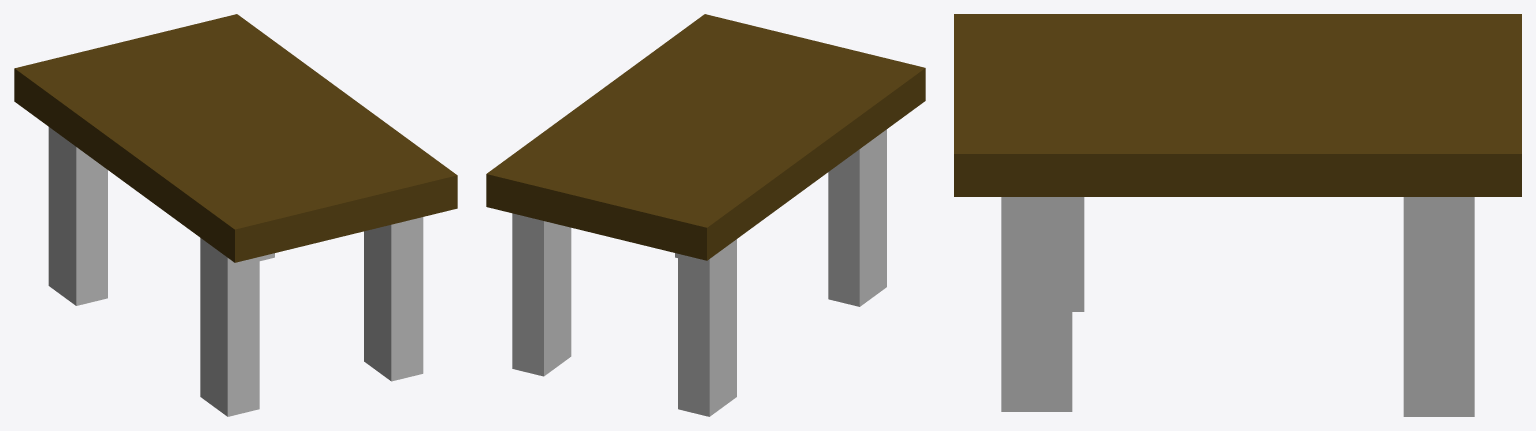
Rendered from Table.gltf.
3 renders of one model, left to right at view 1: azimuth 30°, elevation 25°; view 2: azimuth 150°, elevation 25°; view 3: azimuth 270°, elevation 25°, orthographic. The views are drawn at different scales.
Visible parts, largest first — view 1: mesh (×4); view 2: mesh (×4); view 3: mesh (×4).
Boxes of the visible parts, x1,y1,x2,y2 form: mesh (×4): (14, 14, 457, 416); mesh (×4): (486, 14, 925, 416); mesh (×4): (954, 14, 1521, 416).
Size of the model in its own units: 1.75 by 1.56 by 3.
Materials: 2 (2 with a texture image).
